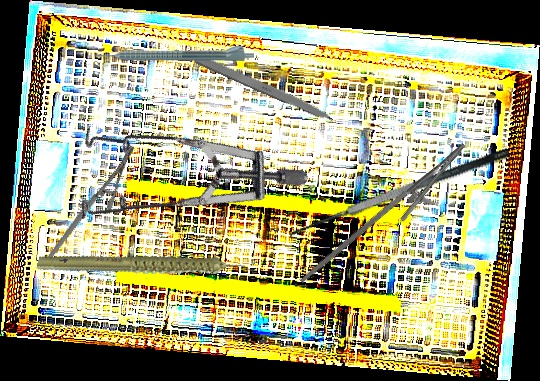Handpiece: (35, 211, 257, 325), (97, 44, 254, 61)
Needle Holder: (298, 124, 479, 313), (20, 142, 161, 262)
Scalpel Handle: (173, 42, 336, 124)
Spatula Surgical: (285, 146, 517, 253)
Speculum: (44, 57, 311, 312)
